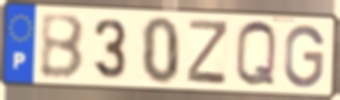0: (136, 15, 183, 86)
3: (91, 17, 130, 81)
B: (39, 13, 87, 82)
G: (282, 23, 326, 90)
Q: (233, 19, 279, 90)
Z: (185, 18, 231, 88)
